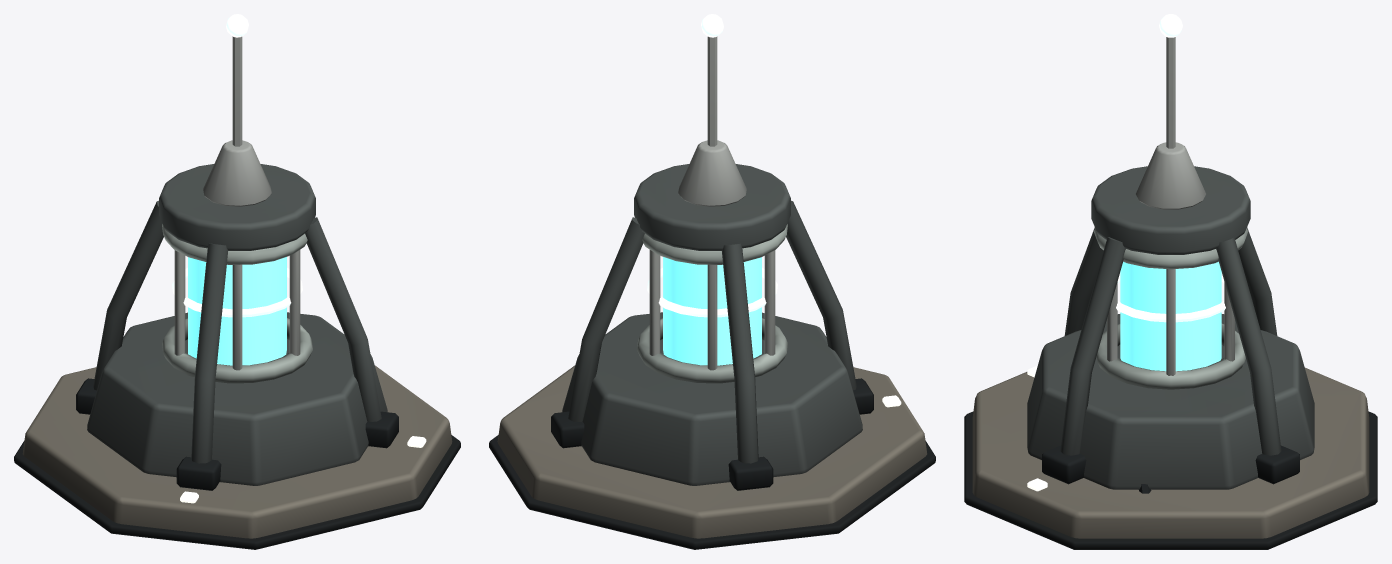
Rendered from relay.glb.
The picture shows the model from 3 angles, left to right: view 1: azimuth 30°, elevation 25°; view 2: azimuth 150°, elevation 25°; view 3: azimuth 270°, elevation 25°; orthographic projection.
Visible parts, largest first — view 1: Base, Foundation.003, Steel.011, Core, Trim.003, Rings, Gear.009, Lights.009; view 2: Base, Foundation.003, Steel.011, Core, Trim.003, Rings, Gear.009, Lights.009; view 3: Base, Foundation.003, Core, Steel.011, Trim.003, Rings, Gear.009, Lights.009.
Boxes of the visible parts, x1=… form: Base: x1=87, y1=164, x2=387, y2=485; Foundation.003: x1=22, y1=365, x2=452, y2=538; Steel.011: x1=174, y1=36, x2=300, y2=370; Core: x1=188, y1=257, x2=286, y2=365; Trim.003: x1=14, y1=435, x2=460, y2=549; Rings: x1=162, y1=224, x2=312, y2=383; Gear.009: x1=76, y1=378, x2=398, y2=490; Lights.009: x1=172, y1=14, x2=302, y2=317; Base: x1=562, y1=164, x2=862, y2=485; Foundation.003: x1=497, y1=365, x2=927, y2=538; Steel.011: x1=649, y1=36, x2=775, y2=370; Core: x1=663, y1=257, x2=761, y2=365; Trim.003: x1=489, y1=435, x2=935, y2=549; Rings: x1=637, y1=224, x2=787, y2=383; Gear.009: x1=551, y1=378, x2=873, y2=490; Lights.009: x1=647, y1=14, x2=777, y2=317; Base: x1=1027, y1=166, x2=1314, y2=489; Foundation.003: x1=972, y1=367, x2=1369, y2=538; Core: x1=1120, y1=261, x2=1221, y2=371; Steel.011: x1=1107, y1=37, x2=1234, y2=375; Trim.003: x1=964, y1=411, x2=1377, y2=549; Rings: x1=1093, y1=228, x2=1248, y2=389; Gear.009: x1=1042, y1=445, x2=1299, y2=493; Lights.009: x1=1116, y1=14, x2=1225, y2=322.
Size of the model in its own units: 3.42 by 4.1 by 3.42.
